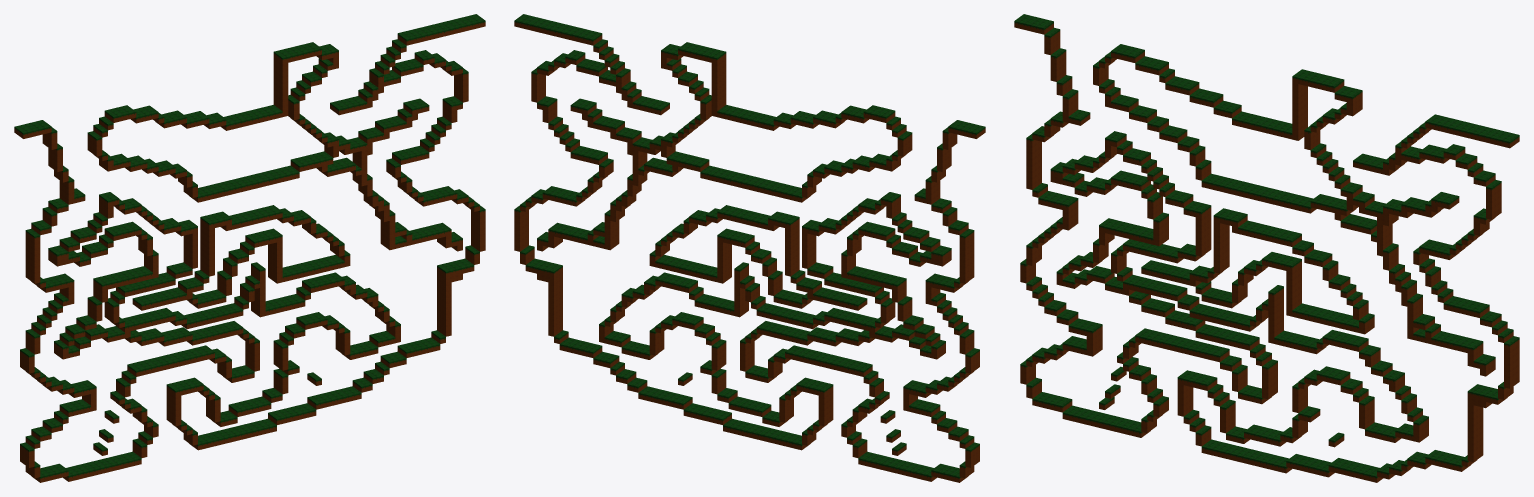
File: Luna0RaritySoloOriginalV2.glb
3 renders of one model, left to right at view 1: azimuth 30°, elevation 25°; view 2: azimuth 150°, elevation 25°; view 3: azimuth 330°, elevation 25°, orthographic. The views are drawn at different scales.
Visible parts, largest first — view 1: Setor_0, Setor_1, Setor_2; view 2: Setor_0, Setor_1, Setor_2; view 3: Setor_0, Setor_1, Setor_2.
Part boxes in pixels (box(x1,y1,x2,y2)): Setor_0: box(14, 105, 203, 482); Setor_1: box(194, 42, 383, 448); Setor_2: box(375, 14, 485, 375); Setor_0: box(796, 105, 985, 482); Setor_1: box(616, 42, 805, 448); Setor_2: box(514, 14, 624, 375); Setor_0: box(1014, 14, 1216, 454); Setor_1: box(1207, 69, 1410, 482); Setor_2: box(1401, 114, 1519, 475).
Bounding box in the file's own units: 85.28 × 65.52 × 2.88.
1 material, 1 textured.
